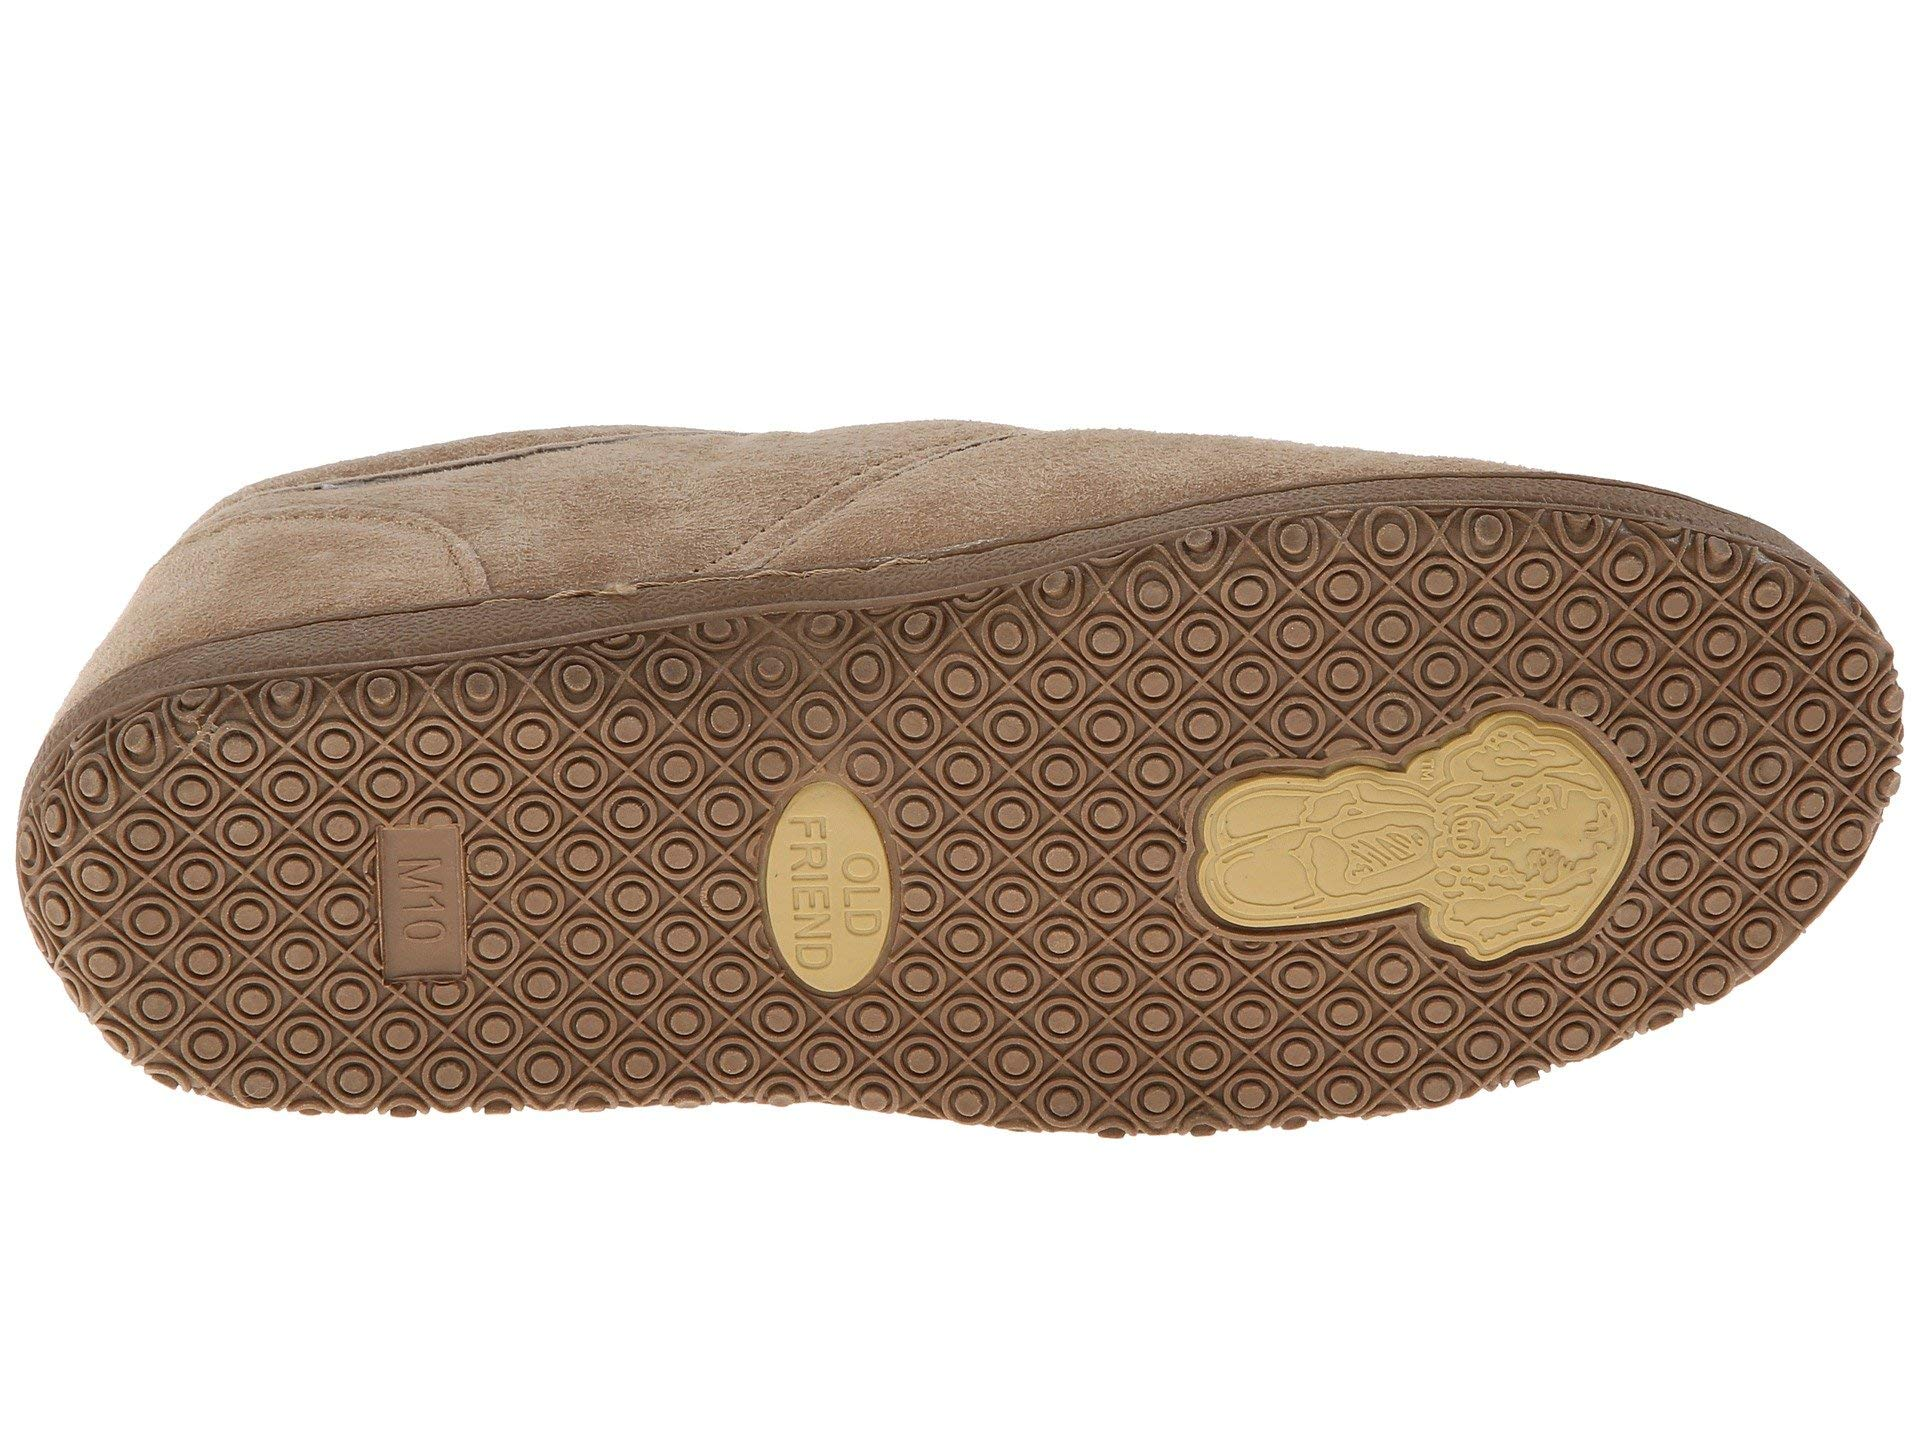circle: (928, 569, 1203, 1128), (759, 765, 897, 1010)
quad: (928, 569, 1203, 1128), (366, 817, 476, 985)
text: (759, 765, 897, 1010), (366, 817, 476, 985)
